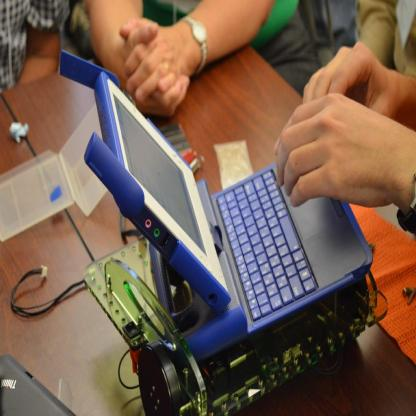board: (59, 47, 375, 363)
